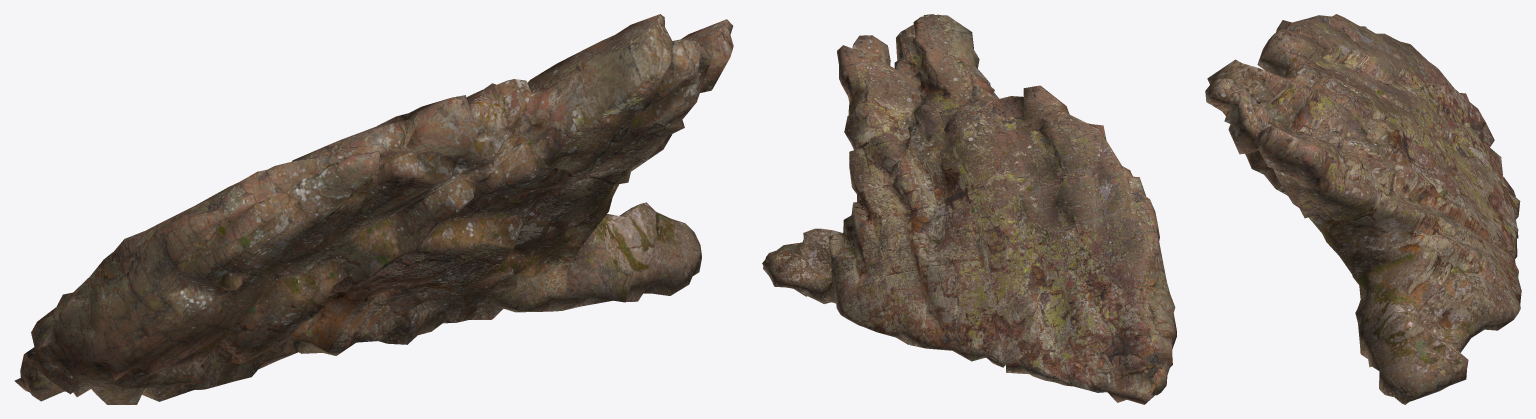
The model's file is huge_nordic_coastal_cliff_ullqbb1ga_low.glb.
The picture shows the model from 3 angles, left to right: view 1: azimuth 30°, elevation 25°; view 2: azimuth 150°, elevation 25°; view 3: azimuth 270°, elevation 25°; orthographic projection. The views are drawn at different scales.
Visible parts, largest first — view 1: ullqbb1ga_LOD0_TIER3_000; view 2: ullqbb1ga_LOD0_TIER3_000; view 3: ullqbb1ga_LOD0_TIER3_000.
Part boxes in pixels (box(x1,y1,x2,y2)): ullqbb1ga_LOD0_TIER3_000: box(14, 14, 733, 404); ullqbb1ga_LOD0_TIER3_000: box(762, 14, 1176, 404); ullqbb1ga_LOD0_TIER3_000: box(1205, 14, 1521, 404).
Size of the model in its own units: 15.24 by 8.48 by 8.07.
Materials: 1 (1 with a texture image).
